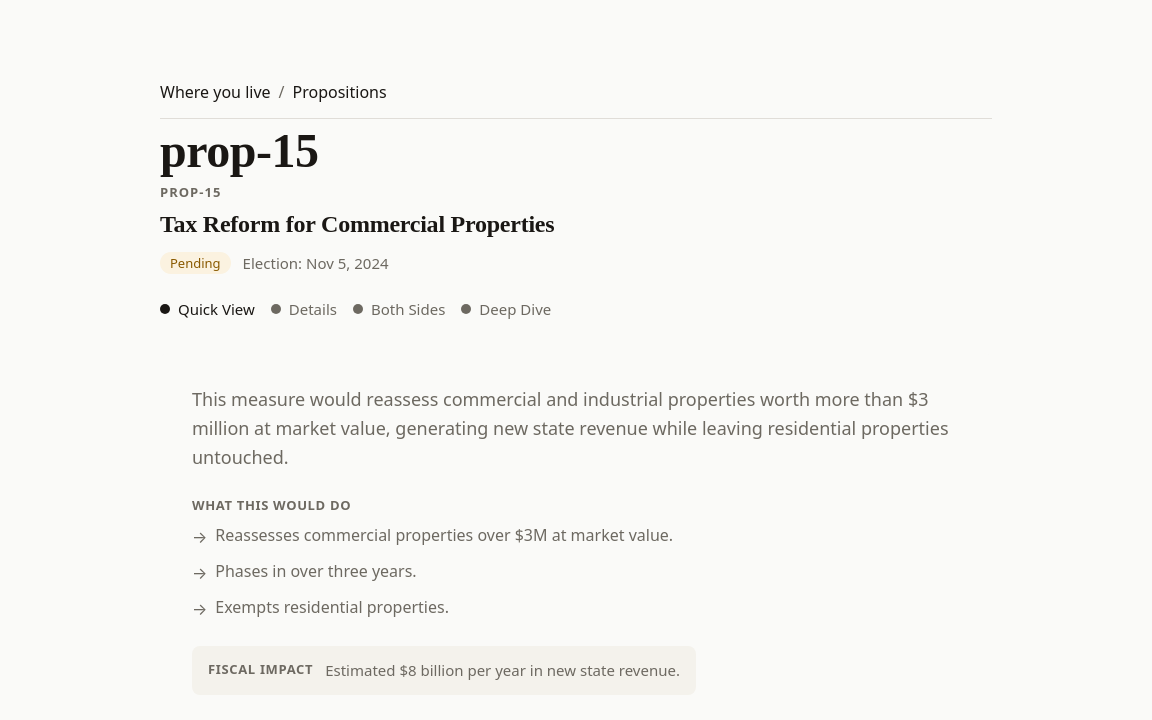
Test case: PropositionDetailPage › Layer Navigation › should navigate to Layer 4 when Full Details & Sources is clicked
# Navigate to Layer 3
Click the button "Both Sides" at {"x": 399, "y": 309}, box [353,298,445,321]
(page scrolled)
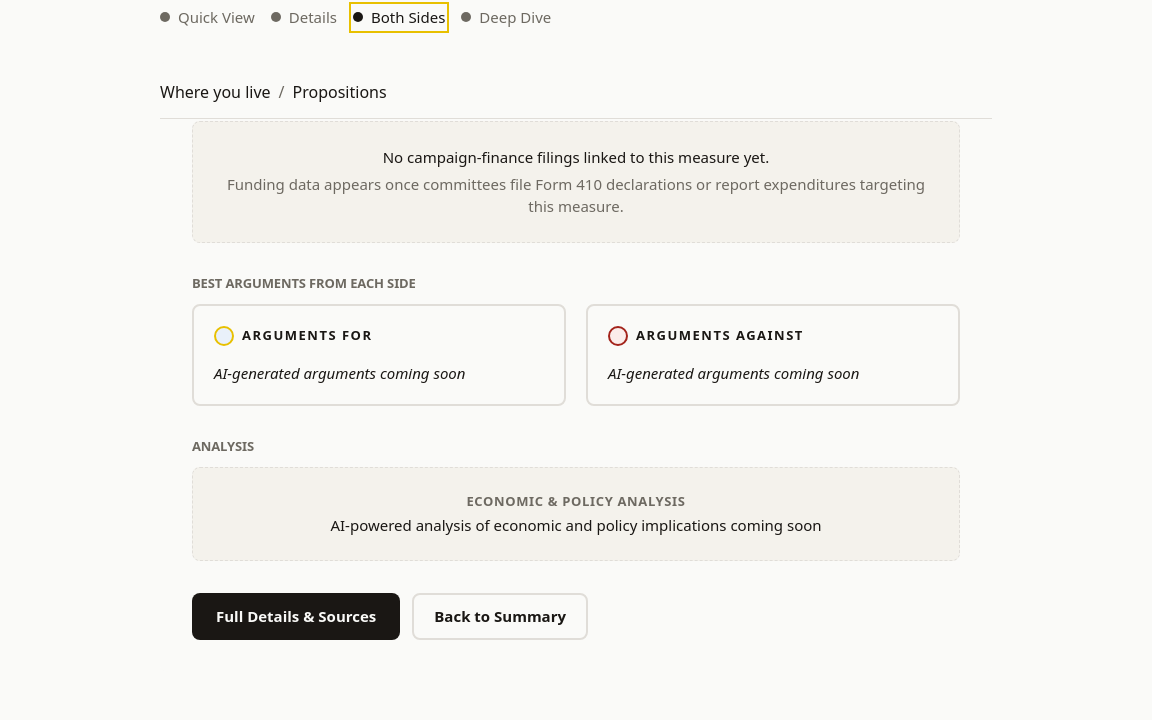
Check: the button "Full Details & Sources" is shown
Click the button "Full Details & Sources" at {"x": 296, "y": 616}, box [192,593,400,640]
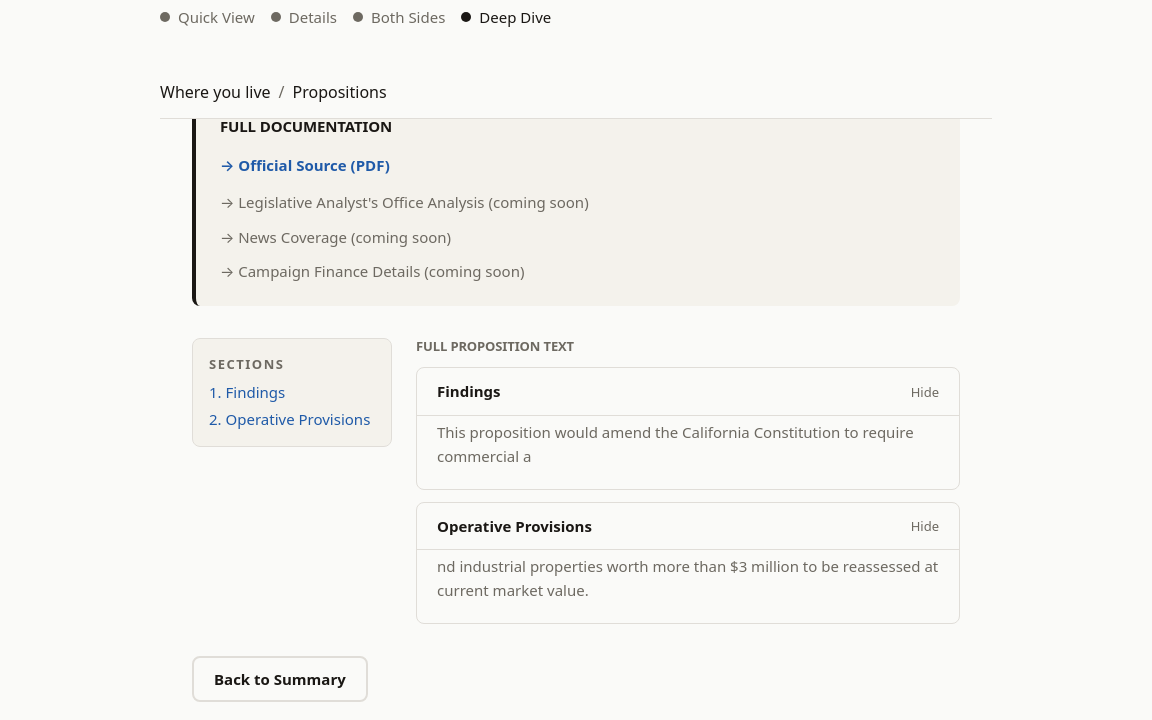
Check: the heading "Full Documentation" is shown, box [220,116,392,136]
